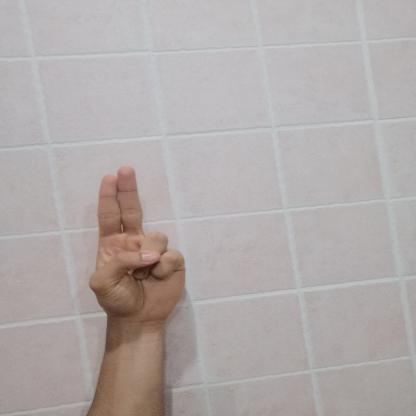TA: (77, 157, 200, 330)
